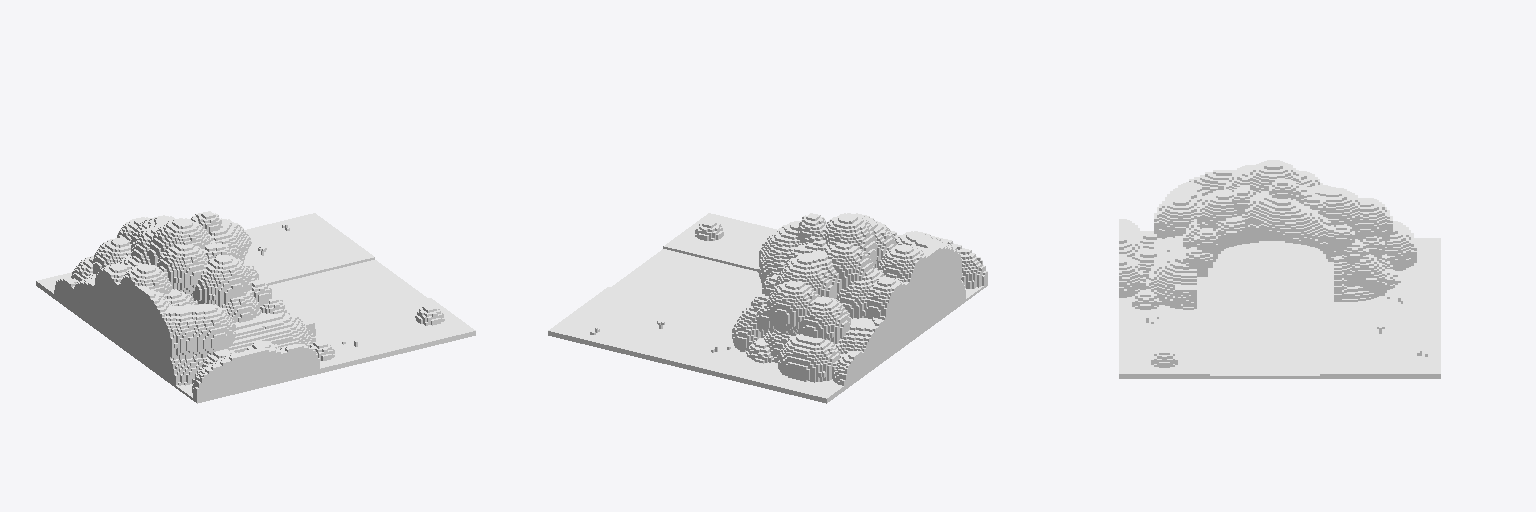
The model's file is town_model-14.obj.
The picture shows the model from 3 angles: view 1: azimuth 30°, elevation 25°; view 2: azimuth 150°, elevation 25°; view 3: azimuth 270°, elevation 25°; orthographic projection.
Parts seen in each view (by area): view 1: town_model-14; view 2: town_model-14; view 3: town_model-14.
Part boxes in pixels (x1,y1,x2,y2): town_model-14: (36,211,475,403); town_model-14: (548,213,987,403); town_model-14: (1119,160,1440,378).
Size of the model in its own units: 120 by 45 by 120.